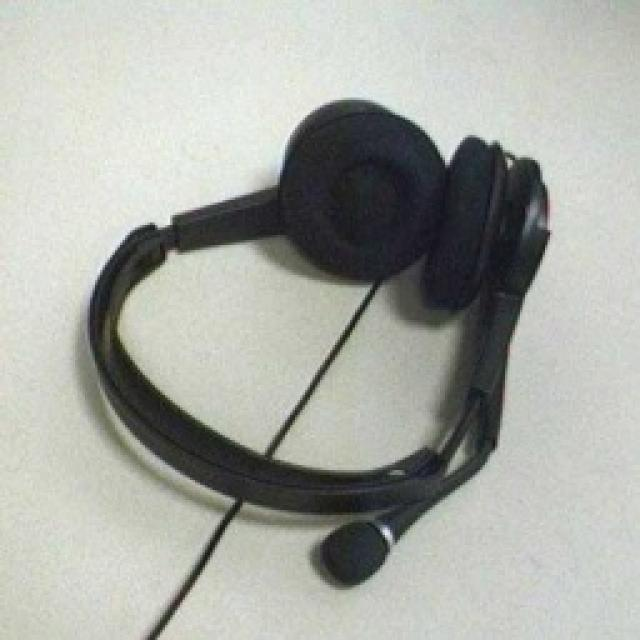headphones: (85, 95, 550, 585)
